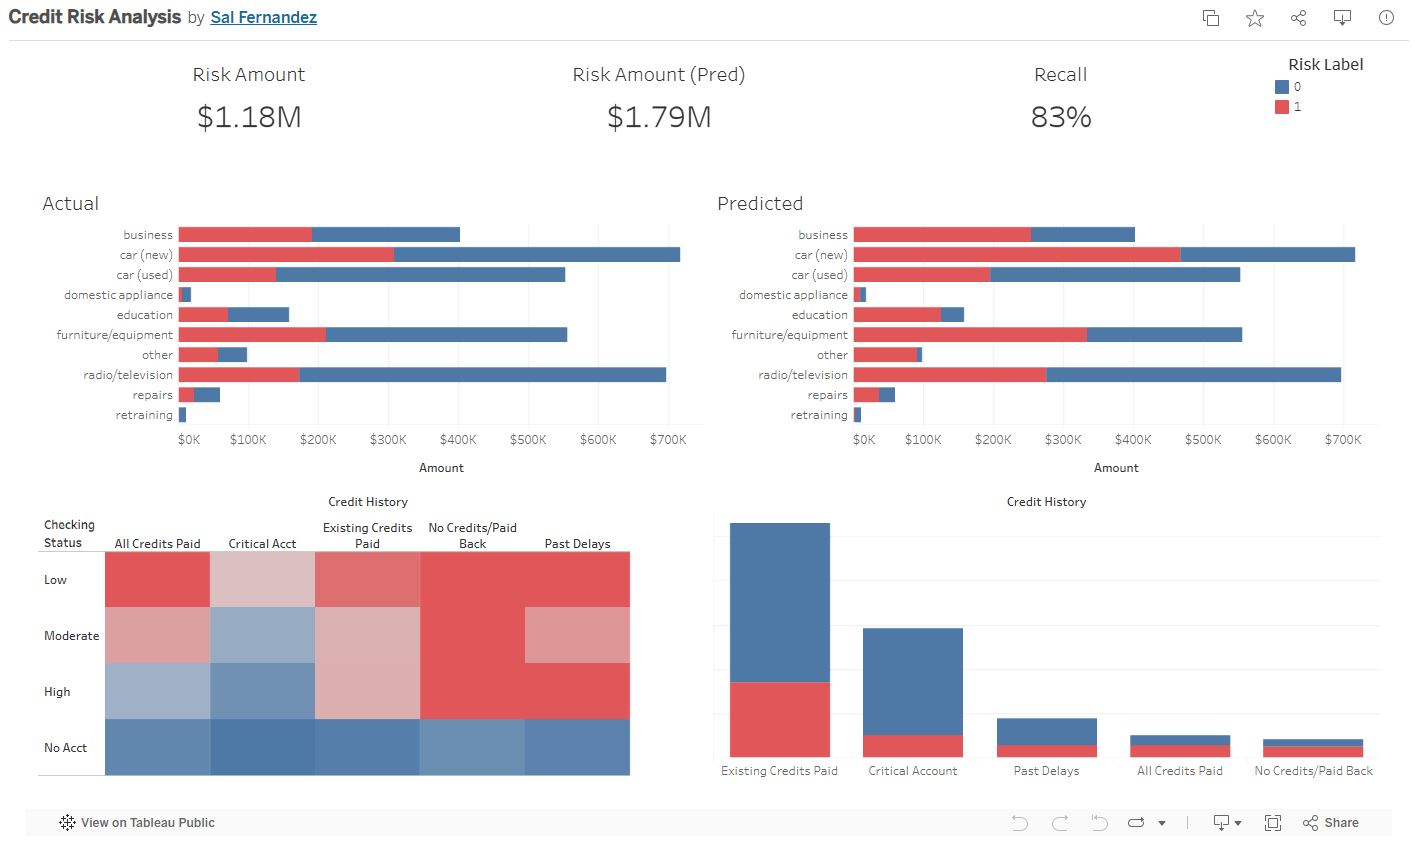

The dashboard page shown, as its layout file describes it:
{"tool":"tableau","page":{"name":"Credit Risk Analysis","canvas":[1366,768],"ordinal":0},"visuals":[{"type":"worksheet","title":"Total Amount at Risk - Actual","mark":"Automatic","box":[8,8,430,129.3]},{"type":"worksheet","title":"Total Amount at Risk - Pred","mark":"Automatic","box":[438,8,390,129.3]},{"type":"worksheet","title":"Recall","mark":"Automatic","box":[828,8,414,129.3]},{"type":"legend","title":"Total Amount by Purpose - Actual","param":"[federated.1b88j8514wx33d1cdzm1y11ce5an].[none:risk_label:ok]","box":[1242,8,116,129.3]},{"type":"worksheet","title":"Total Amount by Purpose - Actual","mark":"Automatic","rows":["purpose"],"cols":["amount"],"box":[8,137.3,675,308.7]},{"type":"worksheet","title":"Total Amount by Purpose - Predicted","mark":"Automatic","rows":["purpose"],"cols":["amount"],"box":[683,137.3,675,308.7]},{"type":"worksheet","title":"Heatmap","mark":"Automatic","rows":["checking_status"],"cols":["credit_history"],"box":[8,446,675,314]},{"type":"worksheet","title":"Credit_Hist","mark":"Automatic","rows":["customer_id"],"cols":["credit_history"],"box":[683,446,675,314]}]}

Visuals, with their boxes on the page's 1366x768 design canvas (x1, y1, x2, y2). These are canvas units, not pixel positions in the 1415x842 screenshot, which may show the page scaled, cropped or inside an application window:
"Total Amount at Risk - Actual" worksheet: 8/8/438/137
"Total Amount at Risk - Pred" worksheet: 438/8/828/137
"Recall" worksheet: 828/8/1242/137
"Total Amount by Purpose - Actual" legend: 1242/8/1358/137
"Total Amount by Purpose - Actual" worksheet: 8/137/683/446
"Total Amount by Purpose - Predicted" worksheet: 683/137/1358/446
"Heatmap" worksheet: 8/446/683/760
"Credit_Hist" worksheet: 683/446/1358/760
